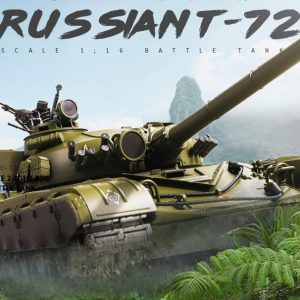Battle Tank: (1, 82, 300, 267)
